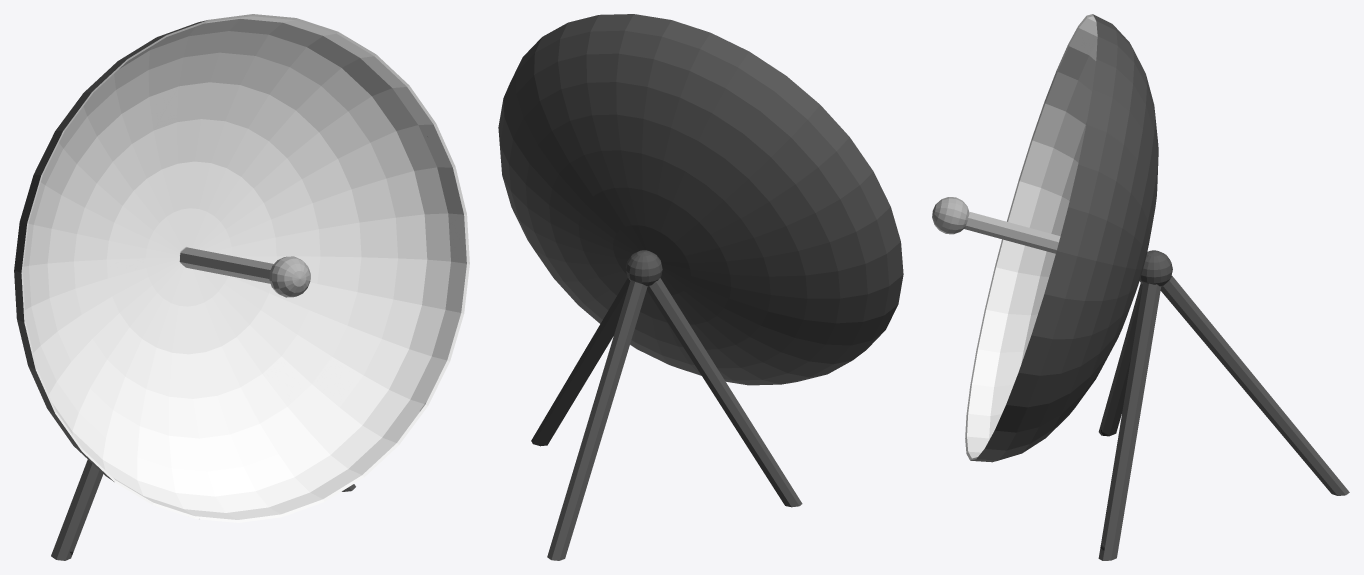
The model's file is Receiver.fbx.
The picture shows the model from 3 angles, left to right: view 1: azimuth 30°, elevation 25°; view 2: azimuth 150°, elevation 25°; view 3: azimuth 270°, elevation 25°; orthographic projection. The views are drawn at different scales.
Visible parts, largest first — view 1: Plane; view 2: Plane; view 3: Plane.
Part boxes in pixels (x1,y1,x2,y2): Plane: [14, 14, 469, 560]; Plane: [498, 14, 903, 560]; Plane: [932, 14, 1349, 560].
Size of the model in its own units: 97.55 by 107 by 87.95.
